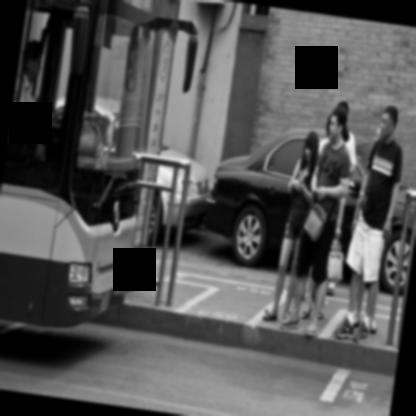handbag: (303, 196, 334, 241), (326, 237, 343, 285)
